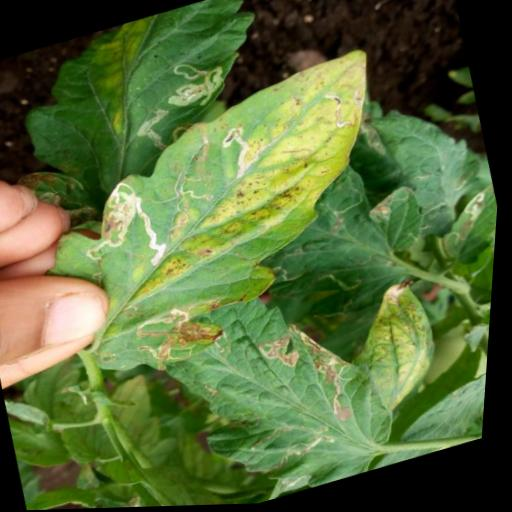Leaf_Miner: (8, 47, 432, 392), (0, 0, 296, 246), (143, 265, 416, 508), (237, 148, 445, 335)
